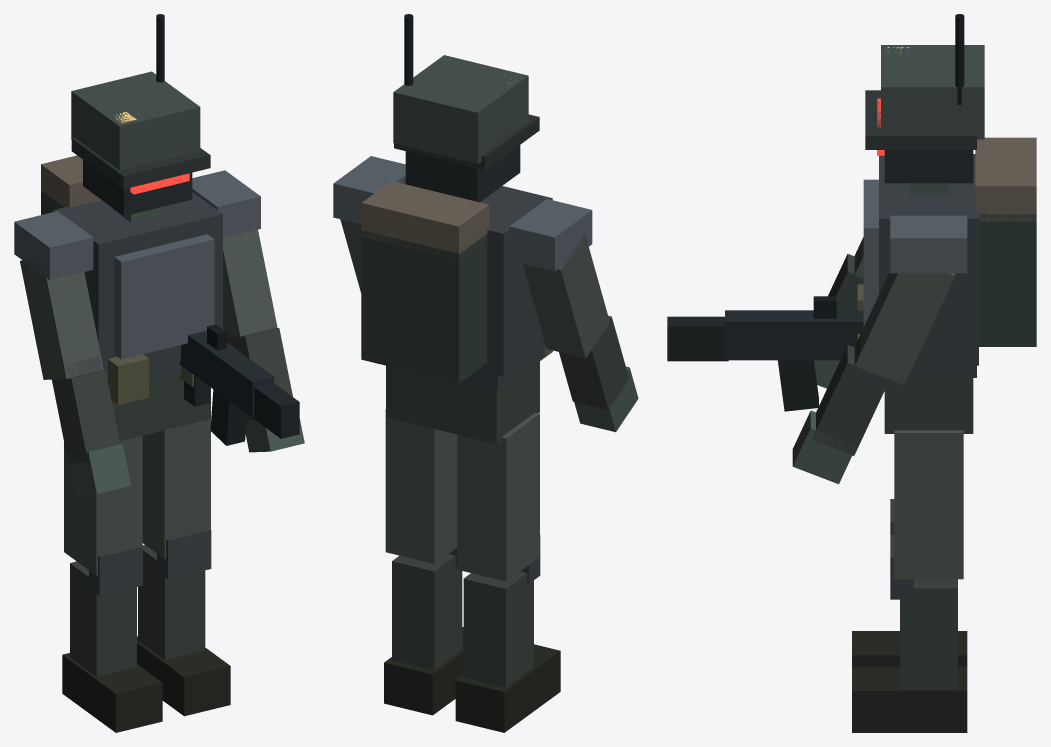
The model's file is soldier.glb.
The picture shows the model from 3 angles, left to right: view 1: azimuth 30°, elevation 25°; view 2: azimuth 150°, elevation 25°; view 3: azimuth 270°, elevation 25°; orthographic projection. The views are drawn at different scales.
Parts seen in each view (by area): view 1: Thigh (×2), Shin (×2), UpperArm (×2), ChestPlate, Helmet, Boot (×2), Torso, Forearm (×2), ShoulderL, KneePad (×2), GunBody, Pelvis (+12 smaller); view 2: Thigh (×2), Backpack, Shin (×2), Helmet, Boot (×2), Pelvis, Torso, UpperArm (×2), Bedroll, ShoulderL, HeadSkull, Forearm (+5 smaller); view 3: Thigh, Helmet, Torso, Boot (×2), Backpack, UpperArm, GunBody, Shin, Forearm (×2), Bedroll, Pelvis, ShoulderR (+10 smaller).
Part boxes in pixels (x1,y1,x2,y2): Thigh (×2): (64, 419, 210, 575); Shin (×2): (70, 545, 205, 676); UpperArm (×2): (20, 229, 277, 379); ChestPlate: (114, 234, 214, 359); Helmet: (71, 71, 200, 170); Boot (×2): (62, 636, 230, 732); Torso: (52, 192, 222, 378); Forearm (×2): (52, 328, 292, 463); ShoulderL: (14, 211, 93, 280); KneePad (×2): (89, 528, 211, 595); GunBody: (180, 330, 274, 417); Pelvis: (111, 375, 210, 440); Thigh (×2): (385, 409, 539, 581); Backpack: (361, 230, 487, 383); Shin (×2): (392, 554, 533, 687); Helmet: (393, 55, 528, 163); Boot (×2): (384, 627, 560, 732); Pelvis: (386, 359, 539, 443); Torso: (400, 179, 552, 376); UpperArm (×2): (340, 219, 609, 358); Bedroll: (361, 181, 489, 259); ShoulderL: (509, 199, 592, 271); HeadSkull: (405, 145, 520, 202); Forearm: (559, 316, 629, 409); Thigh: (894, 430, 963, 579); Helmet: (881, 45, 984, 139); Torso: (879, 154, 978, 365); Boot (×2): (852, 631, 967, 732); Backpack: (979, 214, 1036, 346); UpperArm: (854, 259, 955, 384); GunBody: (725, 310, 863, 360); Shin: (900, 579, 957, 689); Forearm (×2): (812, 254, 886, 455); Bedroll: (975, 137, 1036, 221); Pelvis: (884, 378, 973, 433); ShoulderR: (890, 215, 967, 273).
Size of the model in its own units: 0.68 by 2.02 by 0.96.
